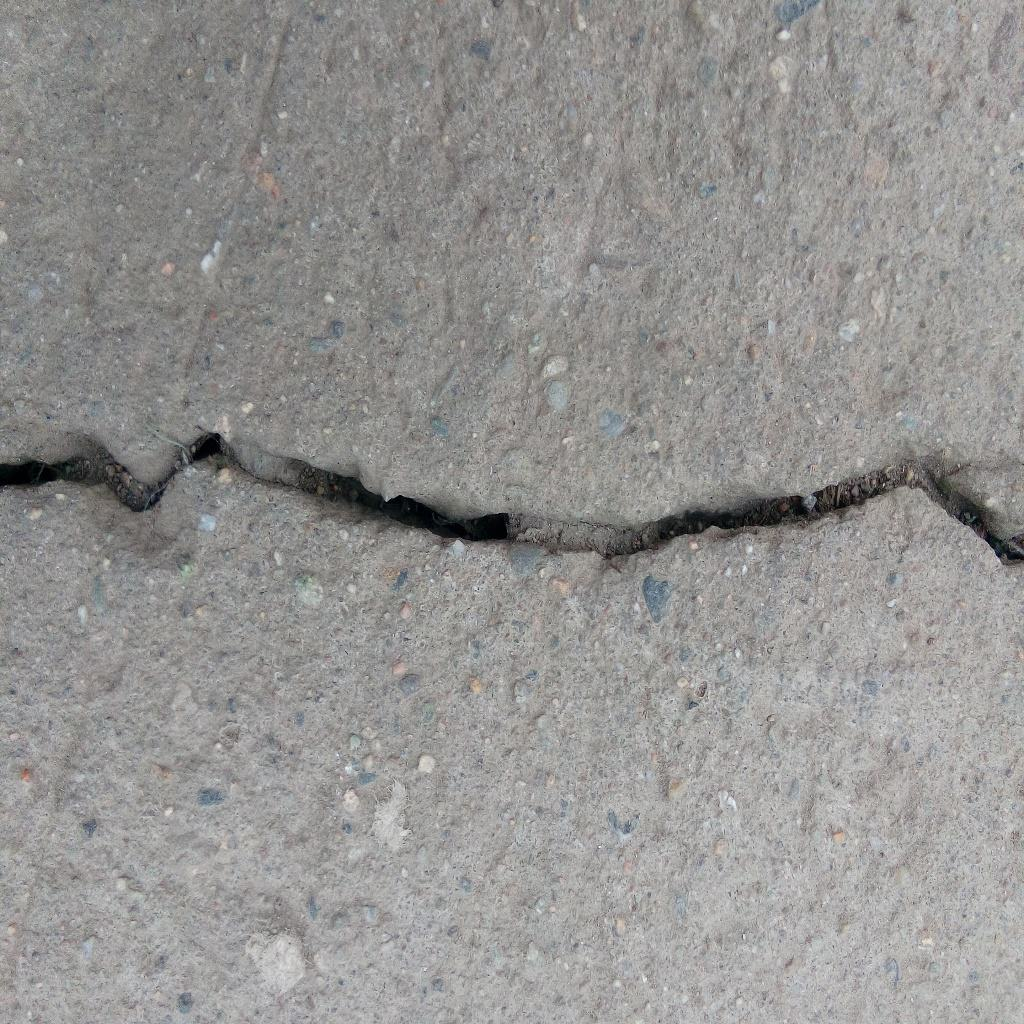Crack: (1, 429, 1024, 568)
